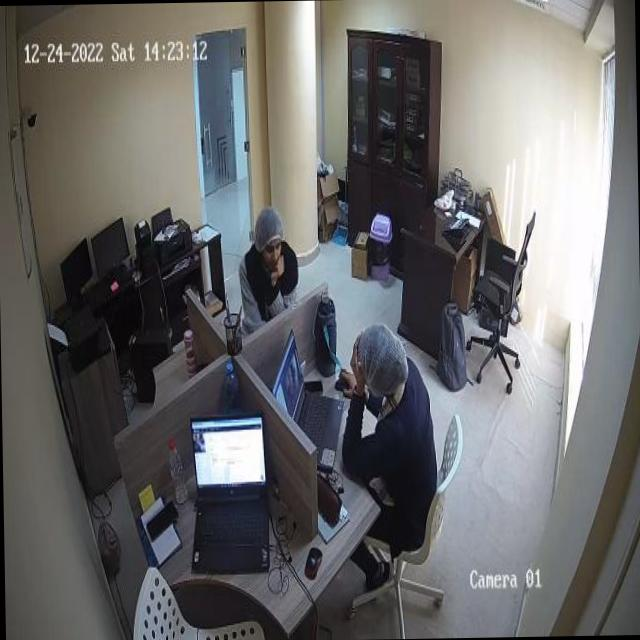hairnet: (356, 325, 408, 386), (252, 210, 285, 240)
